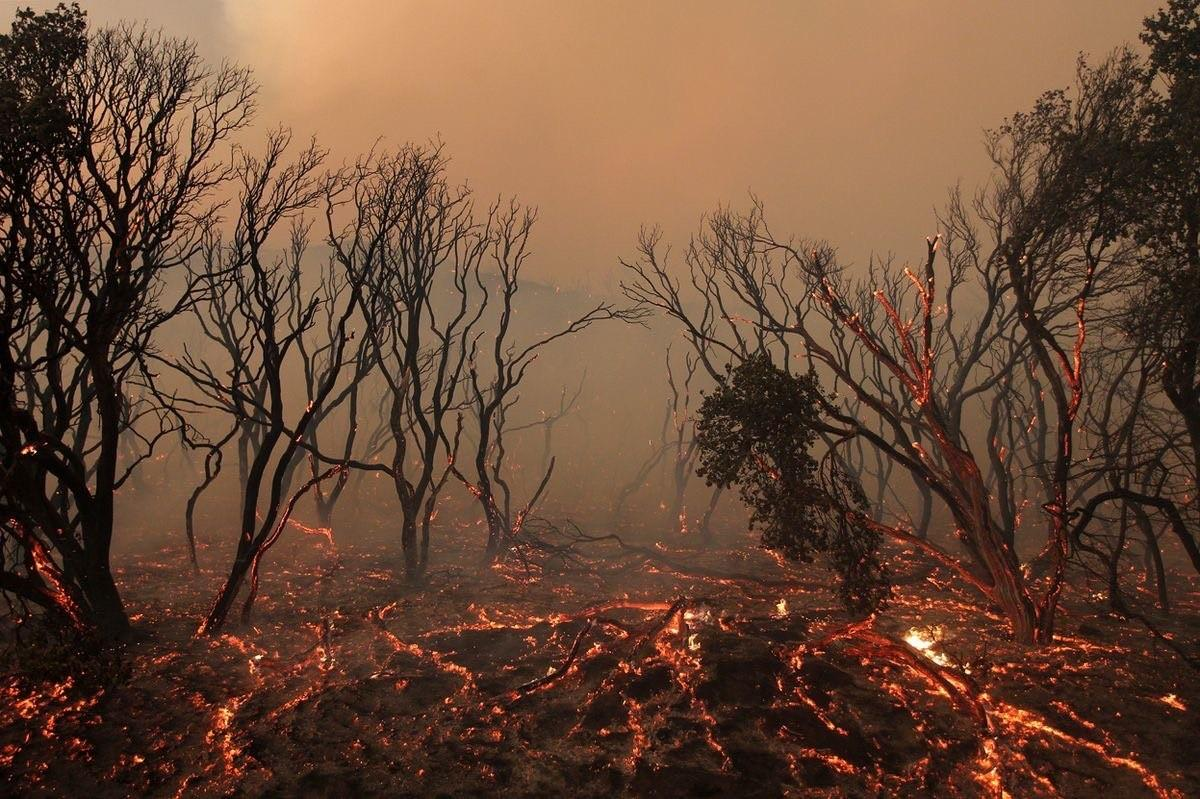fire: (303, 536, 810, 797), (2, 558, 173, 765), (863, 584, 1009, 729)
